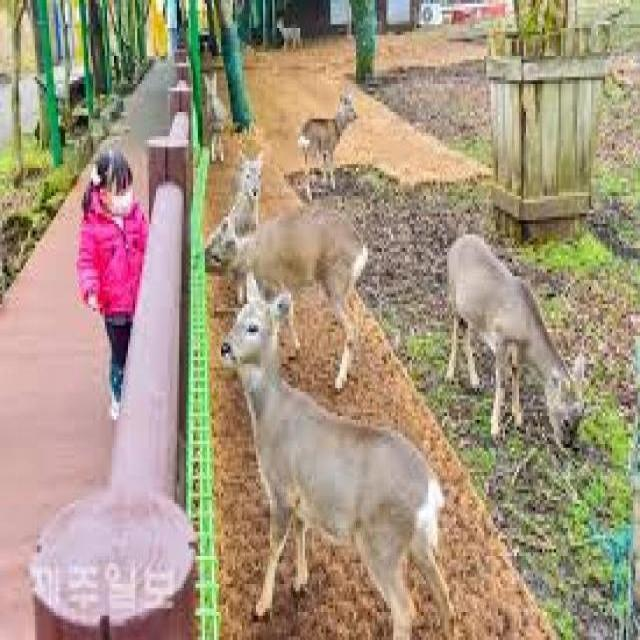deer: (218, 277, 448, 631), (434, 211, 596, 474), (202, 210, 385, 305), (296, 91, 370, 190)
